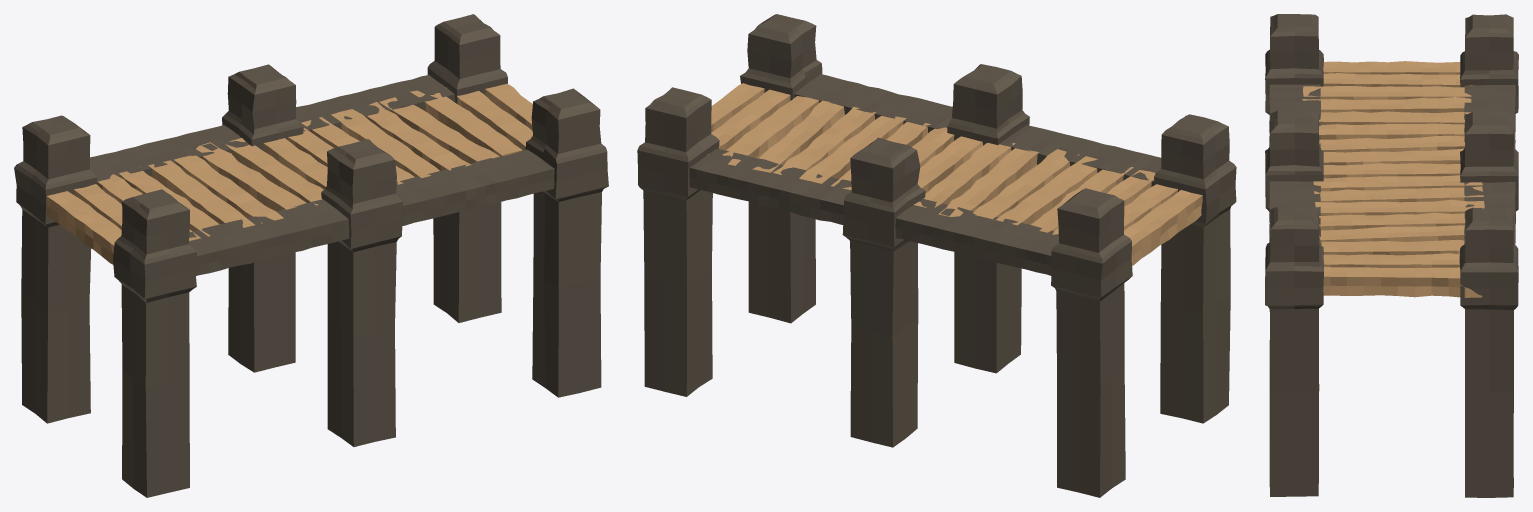
Rendered from HalfBridge.fbx.
3 renders of one model, left to right at view 1: azimuth 30°, elevation 25°; view 2: azimuth 150°, elevation 25°; view 3: azimuth 270°, elevation 25°, orthographic. The views are drawn at different scales.
Parts seen in each view (by area): view 1: Bridge; view 2: Bridge; view 3: Bridge.
Boxes of the visible parts, x1,y1,x2,y2 form: Bridge: (14,14,608,497); Bridge: (637,14,1236,497); Bridge: (1265,14,1518,497).
Bounding box in the file's own units: 2001 × 1168 × 982.
